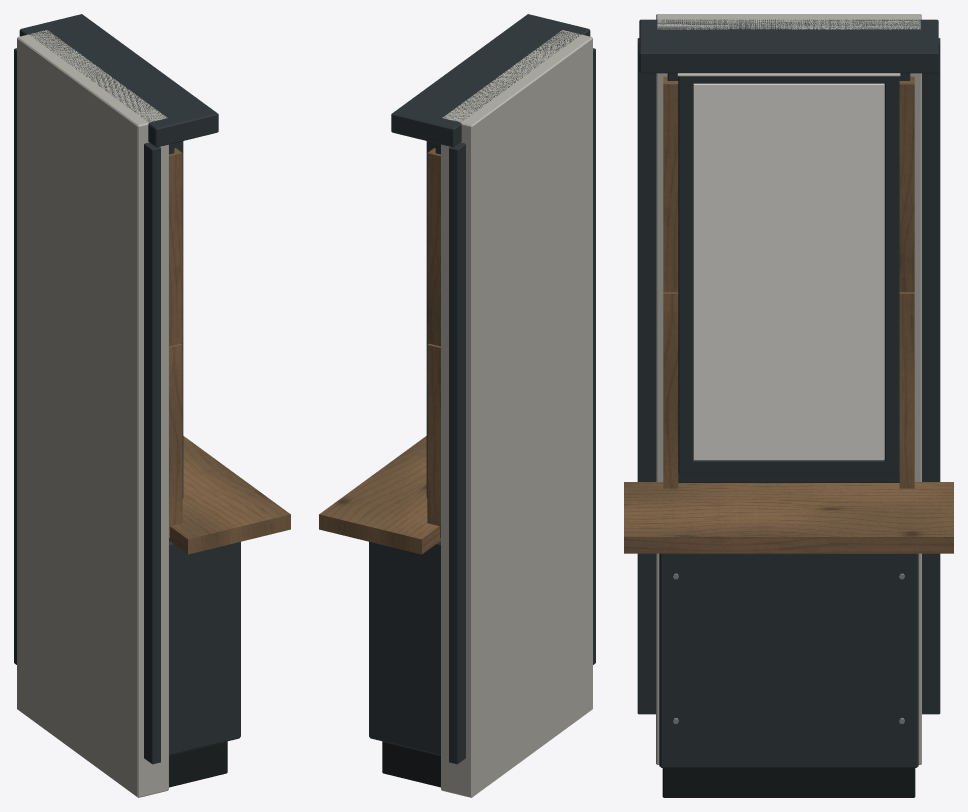
The picture shows the model from 3 angles, left to right: view 1: azimuth 30°, elevation 25°; view 2: azimuth 150°, elevation 25°; view 3: azimuth 270°, elevation 25°; orthographic projection. The views are drawn at different scales.
Visible parts, largest first — view 1: Mesh_Static_concrete, Mesh_Static_paint, Mesh_Static_oak, Mesh_Static_rubber; view 2: Mesh_Static_concrete, Mesh_Static_paint, Mesh_Static_oak, Mesh_Static_rubber; view 3: Mesh_Static_paint, Mesh_ArtworkInsert, Mesh_Static_oak, Mesh_Static_concrete, Mesh_Static_rubber, Mesh_Static_cream.
Boxes of the visible parts, bbox=[...] form: Mesh_Static_concrete: bbox=[17, 30, 168, 797]; Mesh_Static_paint: bbox=[14, 14, 240, 764]; Mesh_Static_oak: bbox=[169, 148, 290, 554]; Mesh_Static_rubber: bbox=[169, 741, 227, 787]; Mesh_Static_concrete: bbox=[441, 30, 592, 797]; Mesh_Static_paint: bbox=[369, 14, 595, 764]; Mesh_Static_oak: bbox=[319, 148, 440, 554]; Mesh_Static_rubber: bbox=[382, 741, 440, 787]; Mesh_Static_paint: bbox=[637, 19, 940, 767]; Mesh_ArtworkInsert: bbox=[693, 83, 884, 460]; Mesh_Static_oak: bbox=[624, 76, 953, 553]; Mesh_Static_concrete: bbox=[656, 14, 921, 764]; Mesh_Static_rubber: bbox=[662, 768, 915, 797]; Mesh_Static_cream: bbox=[677, 73, 900, 76].
Bounding box in the file's own units: 0.525 × 2.44 × 0.992.
6 materials, 1 textured.
